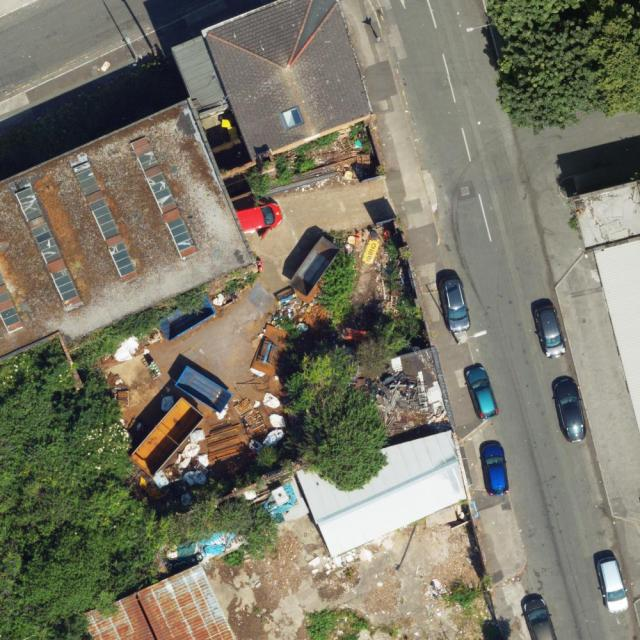roof: (0, 1, 373, 362), (296, 432, 469, 563), (81, 566, 238, 640), (589, 234, 640, 444)
skylight: (28, 219, 63, 265), (104, 240, 139, 278), (12, 183, 42, 223), (147, 171, 177, 209), (91, 198, 119, 238), (50, 264, 79, 302), (168, 217, 196, 254), (74, 165, 99, 198), (280, 105, 303, 132), (0, 304, 22, 329)
